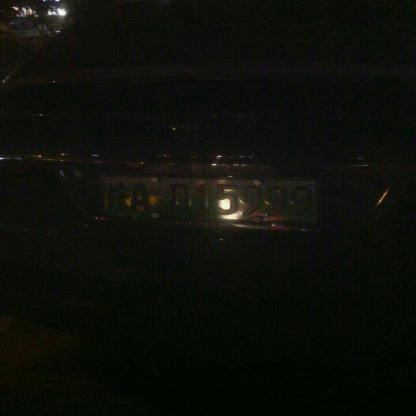lp: (101, 173, 318, 222)
